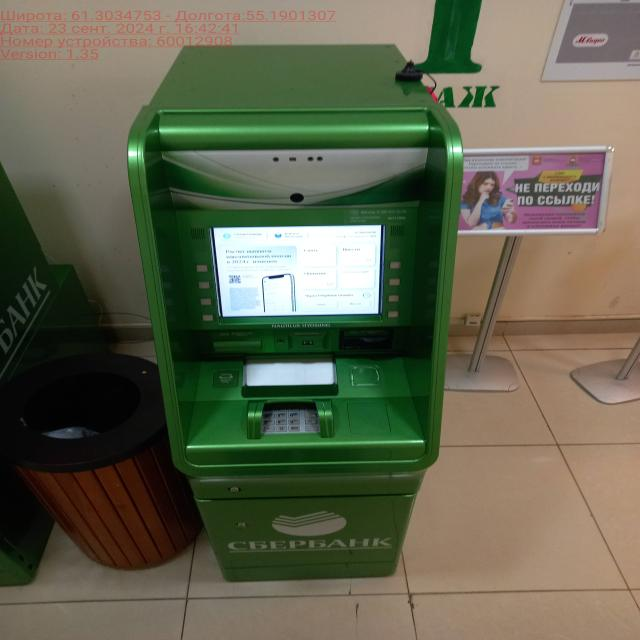bank: (127, 44, 465, 583), (0, 165, 118, 586)
